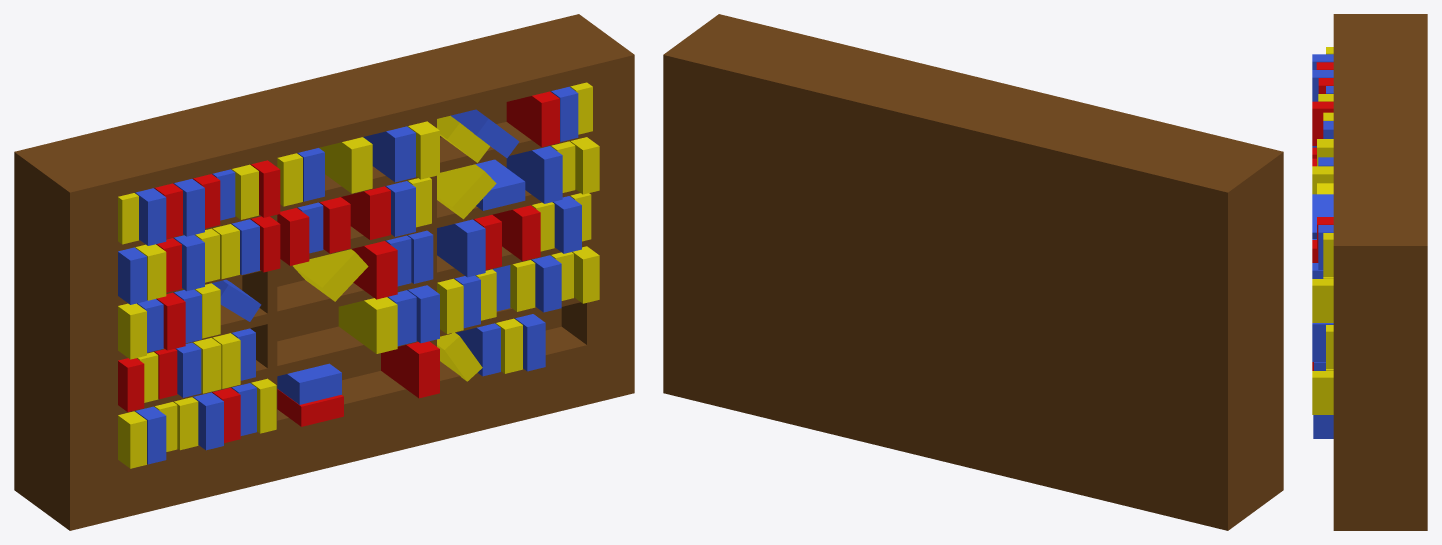
File: bookcase.glb
3 views of the same model, side by side, from view 1: azimuth 30°, elevation 25°; view 2: azimuth 150°, elevation 25°; view 3: azimuth 270°, elevation 25° (orthographic). The views are drawn at different scales.
Parts seen in each view (by area): view 1: bookcase; view 2: bookcase; view 3: bookcase.
Boxes of the visible parts, bbox=[...] form: bookcase: bbox=[14, 14, 634, 530]; bookcase: bbox=[663, 14, 1283, 530]; bookcase: bbox=[1312, 14, 1427, 530].
Size of the model in its own units: 6.28 by 3.59 by 1.32.
